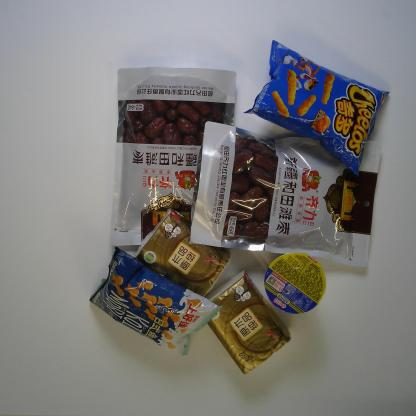Dried Food: (189, 121, 382, 270), (109, 65, 238, 248)
Instant Noodles: (263, 252, 328, 315)
Puffed Food: (243, 39, 390, 177), (88, 246, 224, 357)
Tissue: (204, 270, 292, 376), (134, 206, 232, 299)
